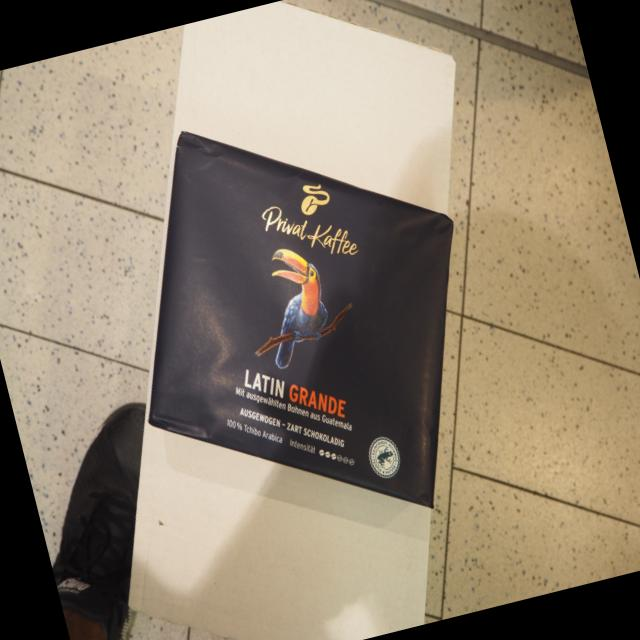LG Gemahlen: (144, 123, 461, 512)
